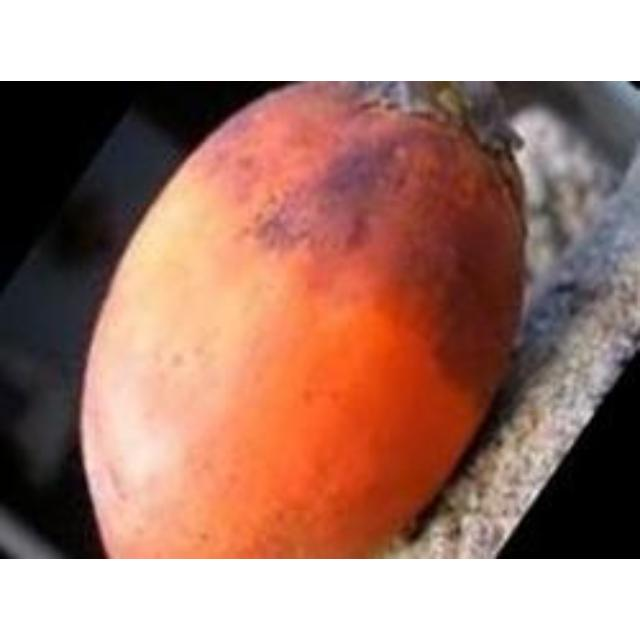good: (77, 81, 540, 557)
